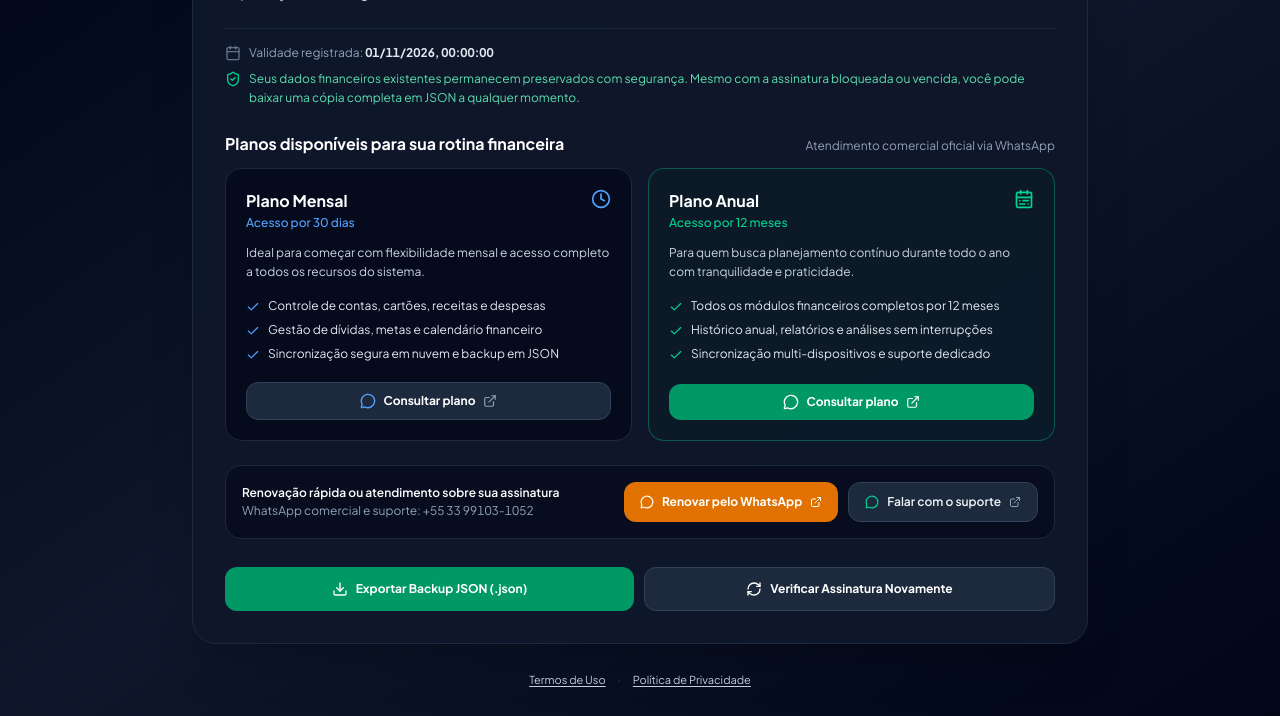
Comercialização C1/C2 — Planos Mensal e Anual, WhatsApp Comercial, RLS e Exportação Segura (100% mocks) › 6. Exportação de backup JSON funciona após vencimento e mantém isolamento estrito entre usuários A e B
(page scrolled)
Click the button "Exportar Backup JSON (.json)": (430, 588) 225,566 -> 634,610
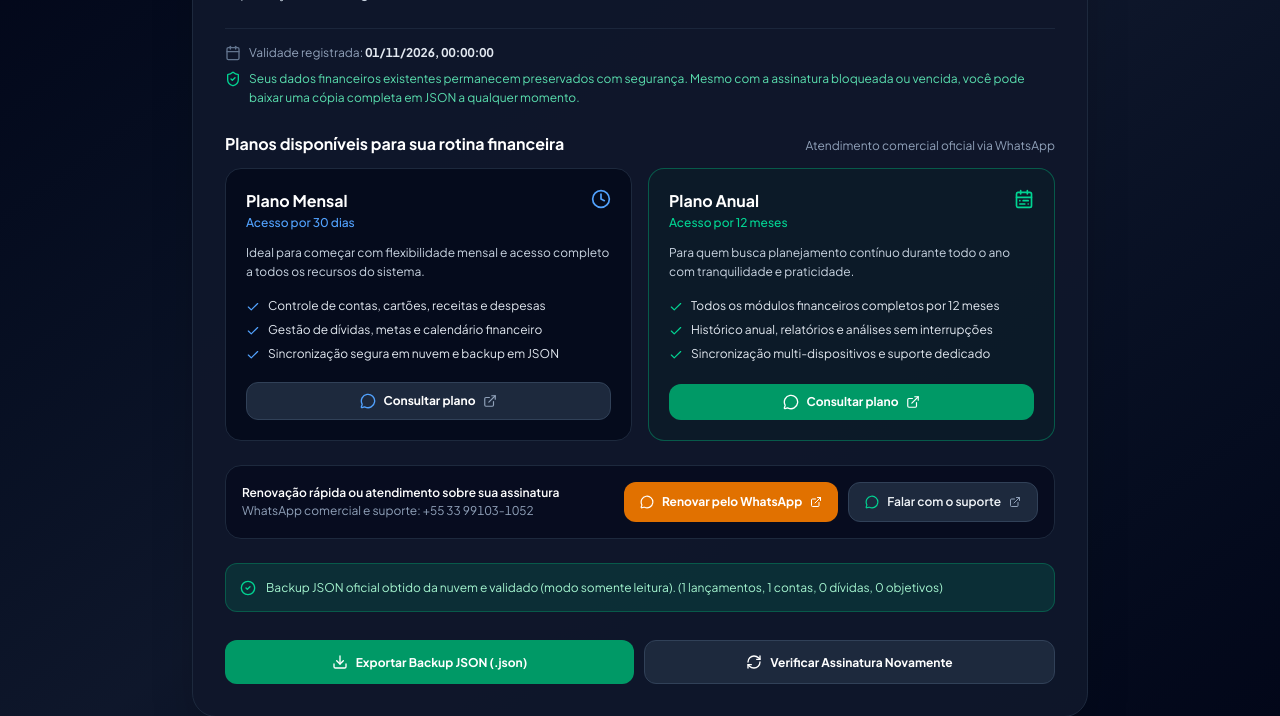
Result: the text "Backup JSON oficial obtido da nuvem" is shown at 266,580 -> 943,594
